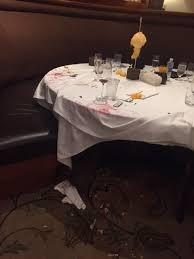Messy Table: (36, 56, 194, 183)
